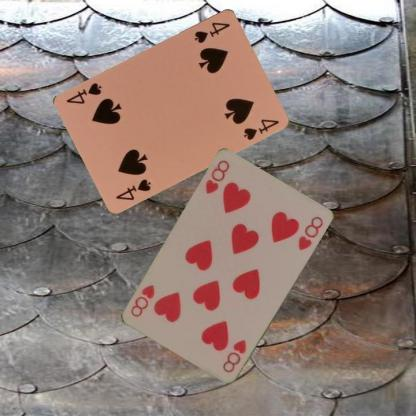4s: (113, 175, 153, 202), (191, 19, 232, 45)
8h: (203, 157, 231, 196), (219, 337, 248, 374)
